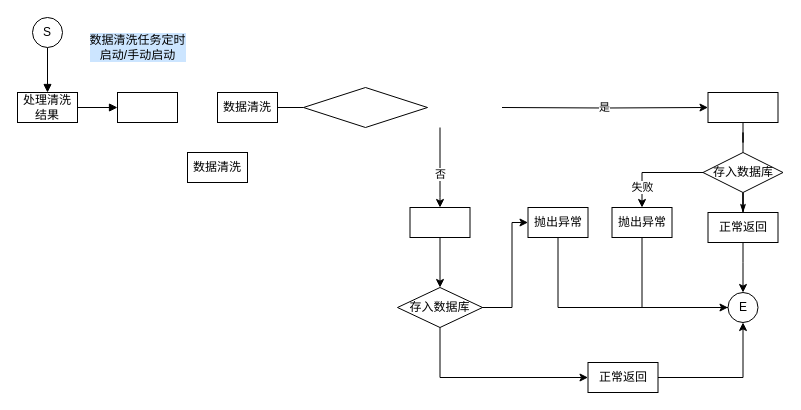
Some shapes in this 801 by 410 pixel diagram are drawn without their labels. Each missing label, with the centre of its shape:
"存入异常数据库" belongs at (x=439, y=222).
"存入正常数据库" belongs at (x=742, y=107).
"是否通过清洗规则" belongs at (x=365, y=107).
"选定清洗规则" belongs at (x=147, y=107).
